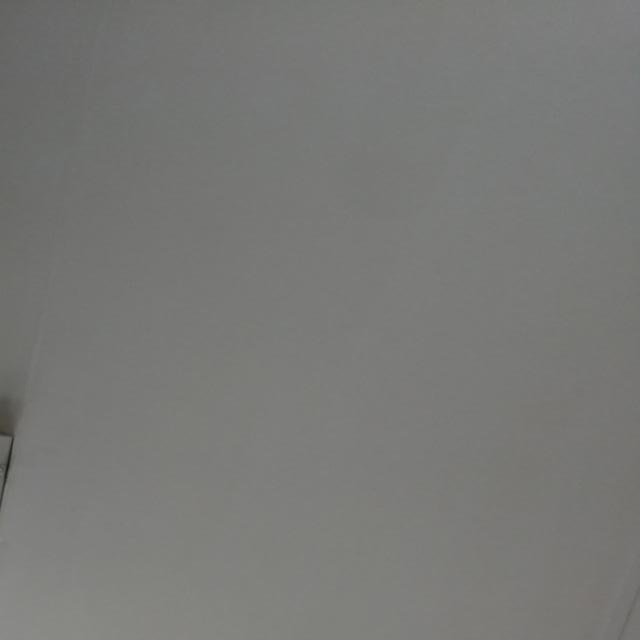fluorescent tube: (0, 377, 64, 640)
